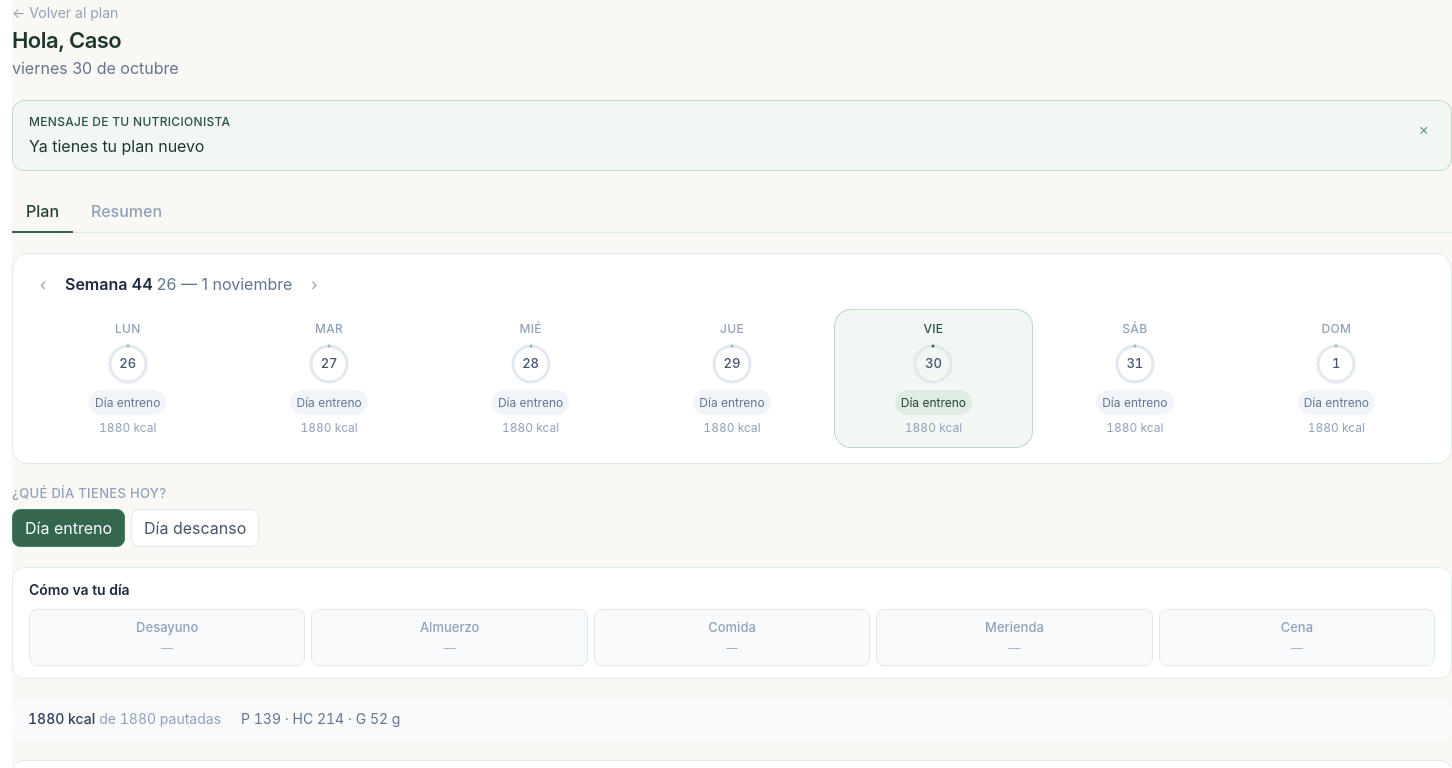
it: El mensaje de la nutricionista › y se puede cerrar para que no quite sitio
Click the button named "Cerrar el mensaje" at (1424, 129), box [1412,113,1435,145]
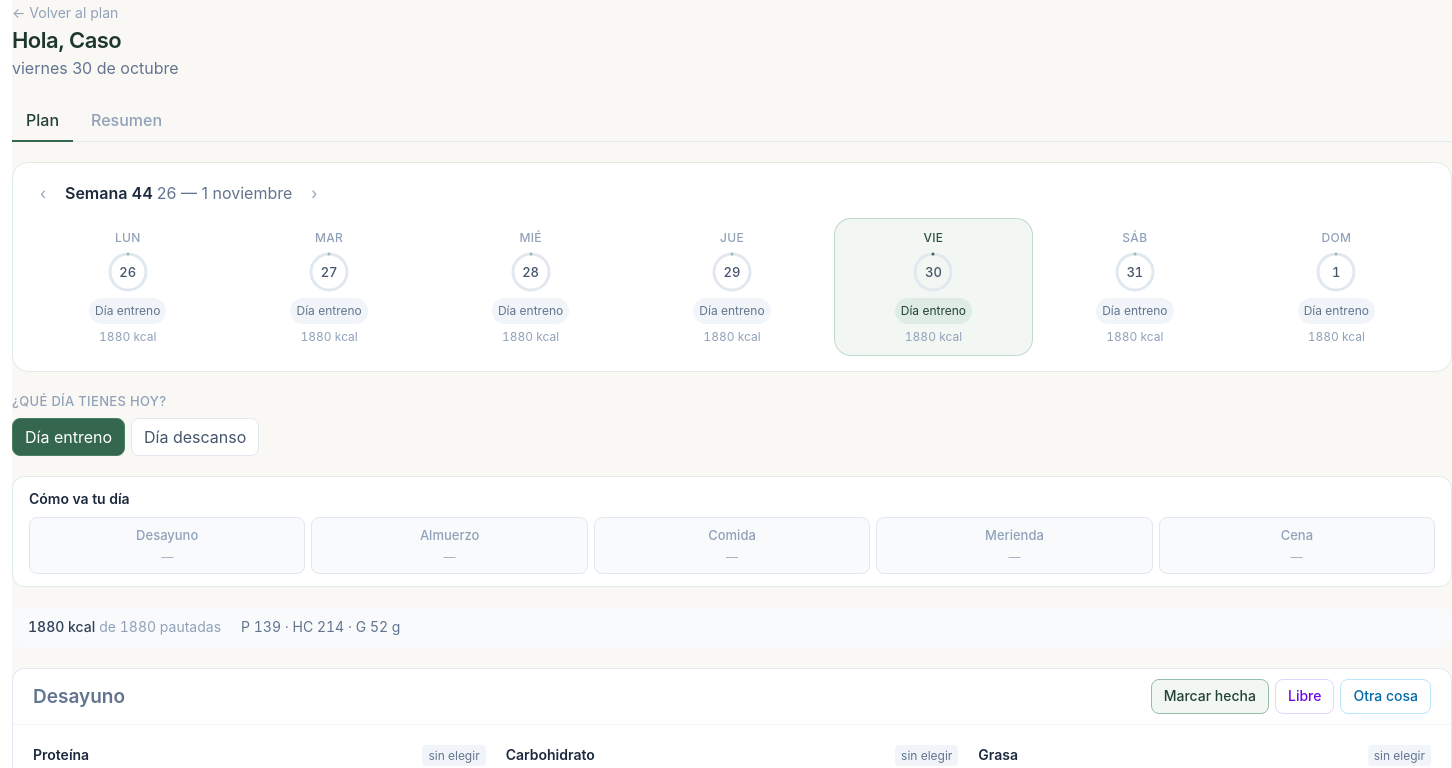
Result: the text "Ya tienes tu plan nuevo" is gone
